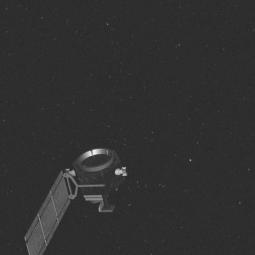earth_observation_sat_1: (42, 139, 134, 227)
